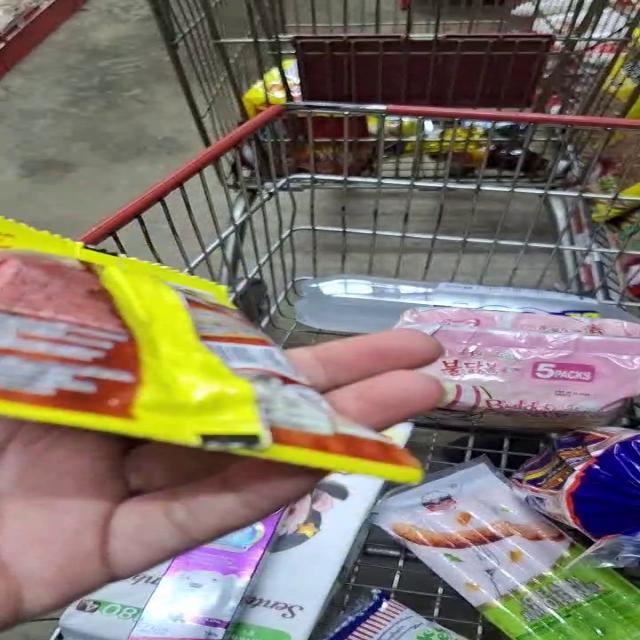Maggi Cukup Rasa: (0, 211, 405, 485)
Roti: (340, 596, 460, 640)
Tisu: (277, 495, 373, 577)
Ubat Gigi: (134, 515, 270, 640)
